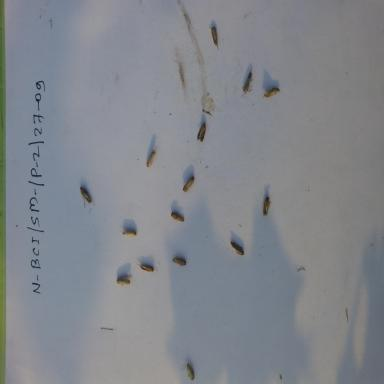pbw: (241, 65, 254, 99), (180, 360, 196, 383), (78, 185, 94, 207), (145, 144, 159, 168), (208, 24, 220, 51), (228, 239, 245, 258), (195, 120, 208, 144), (260, 194, 273, 218), (134, 261, 157, 274), (170, 252, 188, 268), (181, 175, 196, 194), (118, 224, 138, 238), (115, 273, 132, 288), (170, 211, 186, 224), (264, 87, 282, 98)
